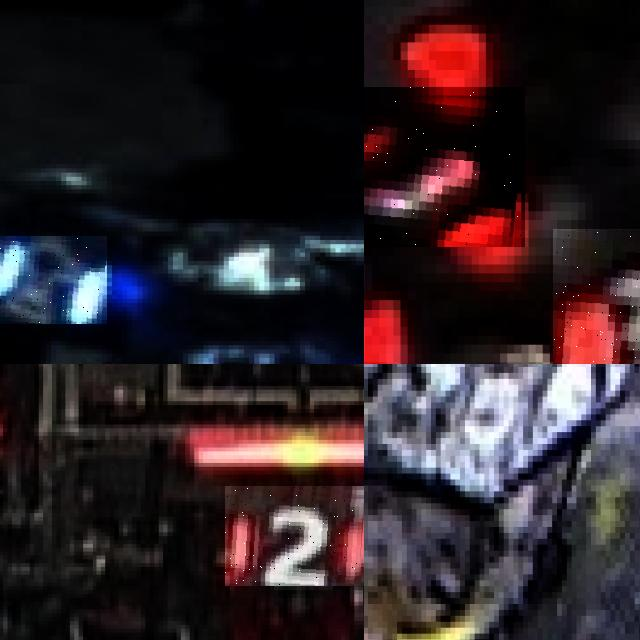Bs: (0, 235, 106, 324)
R2: (225, 486, 364, 586)
R3: (364, 87, 525, 247), (553, 229, 640, 364), (364, 242, 411, 364)
